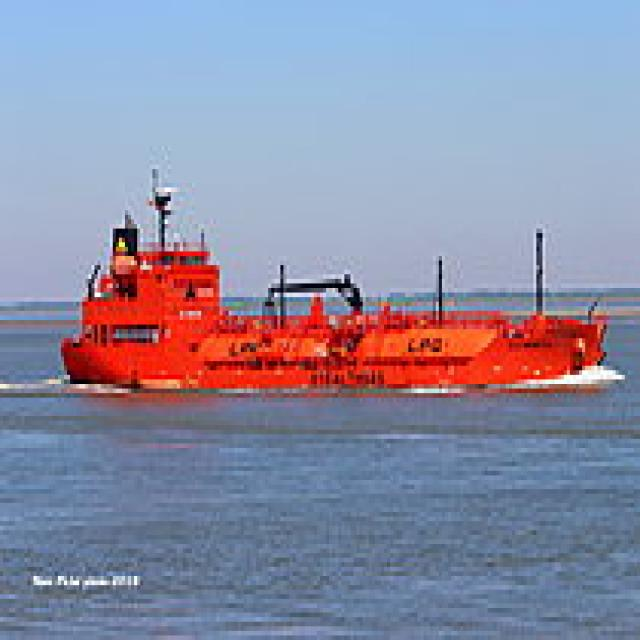Tanker: (52, 160, 612, 393)
